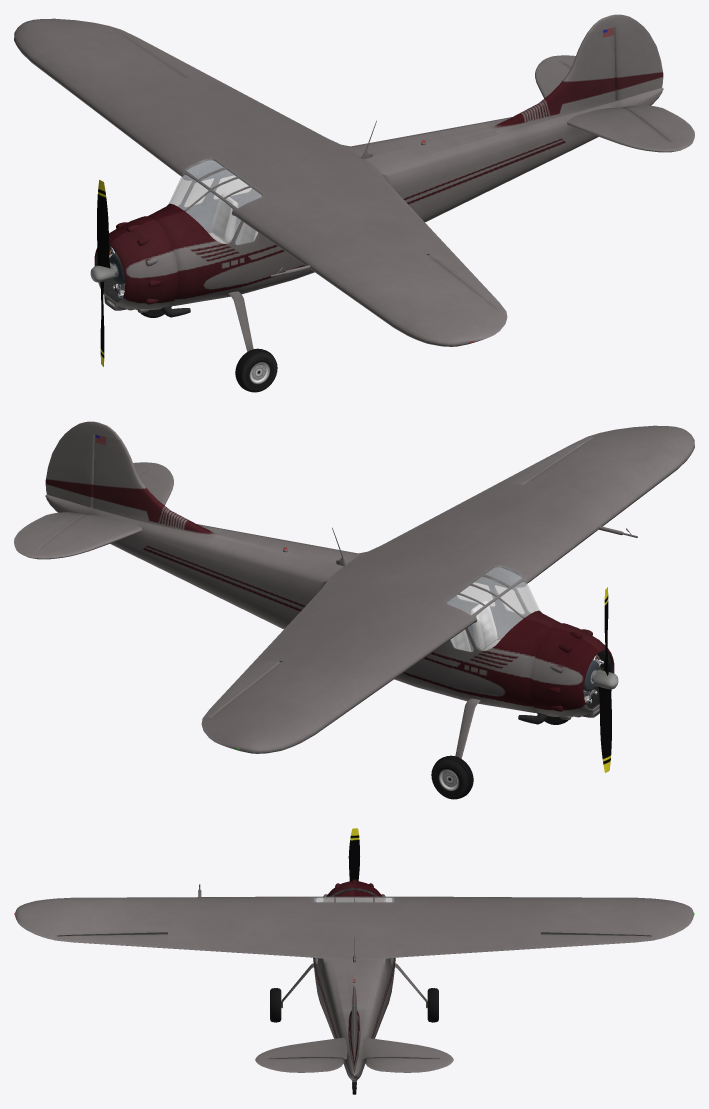
File: cessna_195_businessliner_wheels_version.glb
3 renders of one model, top to bottom at view 1: azimuth 30°, elevation 25°; view 2: azimuth 150°, elevation 25°; view 3: azimuth 270°, elevation 25°, orthographic. The views are drawn at different scales.
Parts seen in each view (by area): view 1: Object_33, Object_32, Object_34, Object_20, Object_11; view 2: Object_33, Object_32, Object_34, Object_20, Object_11; view 3: Object_33, Object_32, Object_34.
Part boxes in pixels (x1,y1,x2,y2): Object_33: (14, 18, 669, 351); Object_32: (95, 14, 694, 392); Object_34: (169, 88, 663, 244); Object_20: (177, 158, 262, 245); Object_11: (208, 193, 257, 244); Object_33: (39, 425, 694, 758); Object_32: (14, 421, 637, 799); Object_34: (45, 495, 539, 651); Object_20: (446, 565, 531, 652); Object_11: (451, 600, 500, 651); Object_33: (15, 879, 693, 1089); Object_32: (15, 828, 693, 1094); Object_34: (313, 897, 395, 1075).
Bounding box in the file's own units: 8.25 × 3.3 × 10.98.
33 materials, 30 textured.
